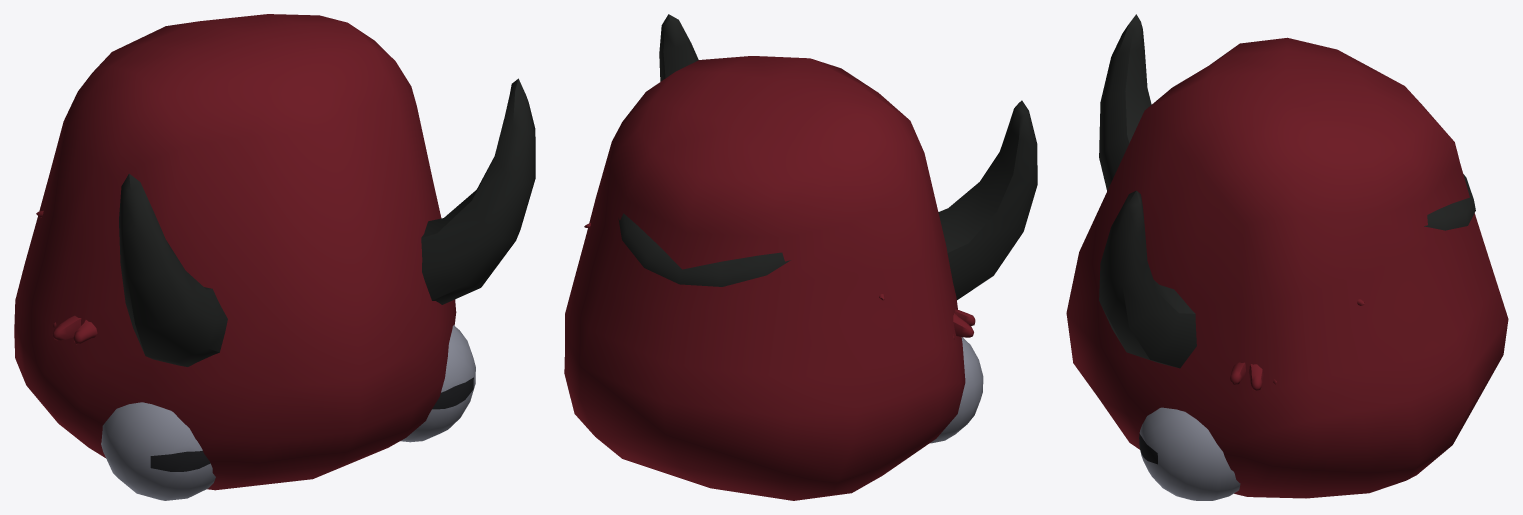
The model's file is Demon_static.glb.
3 renders of one model, left to right at view 1: azimuth 30°, elevation 25°; view 2: azimuth 150°, elevation 25°; view 3: azimuth 270°, elevation 25°, orthographic. The views are drawn at different scales.
Visible parts, largest first — view 1: Demon_Flying, Demon_Flying.001, Demon_Flying.002; view 2: Demon_Flying, Demon_Flying.001, Demon_Flying.002; view 3: Demon_Flying, Demon_Flying.001, Demon_Flying.002.
Part boxes in pixels (box(x1,y1,x2,y2)): Demon_Flying: box(14, 14, 456, 490); Demon_Flying.001: box(101, 78, 535, 500); Demon_Flying.002: box(36, 210, 97, 344); Demon_Flying: box(564, 56, 965, 500); Demon_Flying.001: box(618, 14, 1037, 443); Demon_Flying.002: box(584, 223, 975, 339); Demon_Flying: box(1066, 37, 1508, 498); Demon_Flying.001: box(1099, 14, 1475, 500); Demon_Flying.002: box(1230, 299, 1364, 390).
Bounding box in the file's own units: 200 × 197 × 200.
